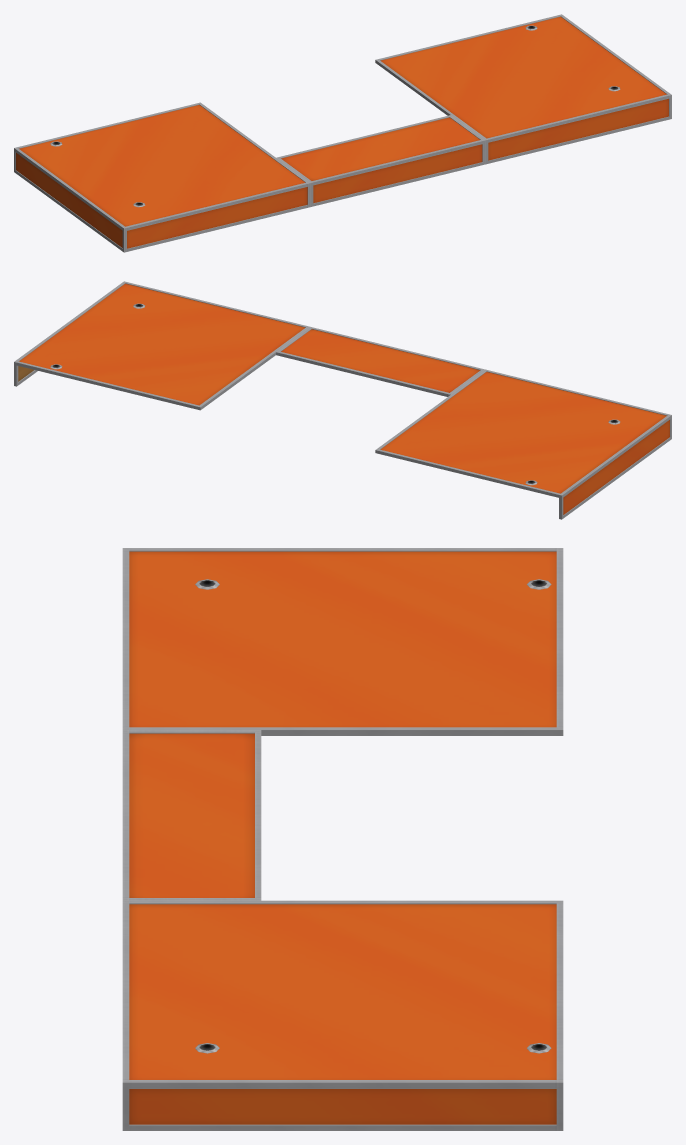
Rendered from jsf_4P_s03_c01_t02_DX.fbx.
3 views of the same model, one above another, from view 1: azimuth 30°, elevation 25°; view 2: azimuth 150°, elevation 25°; view 3: azimuth 270°, elevation 25° (orthographic). The views are drawn at different scales.
Visible parts, largest first — view 1: jsf_4P_s03_c01_t02_DX; view 2: jsf_4P_s03_c01_t02_DX; view 3: jsf_4P_s03_c01_t02_DX.
Boxes of the visible parts, x1=… form: jsf_4P_s03_c01_t02_DX: x1=14, y1=14, x2=671, y2=252; jsf_4P_s03_c01_t02_DX: x1=14, y1=281, x2=671, y2=519; jsf_4P_s03_c01_t02_DX: x1=122, y1=548, x2=563, y2=1130.
Size of the model in its own units: 298 by 12.99 by 104.
